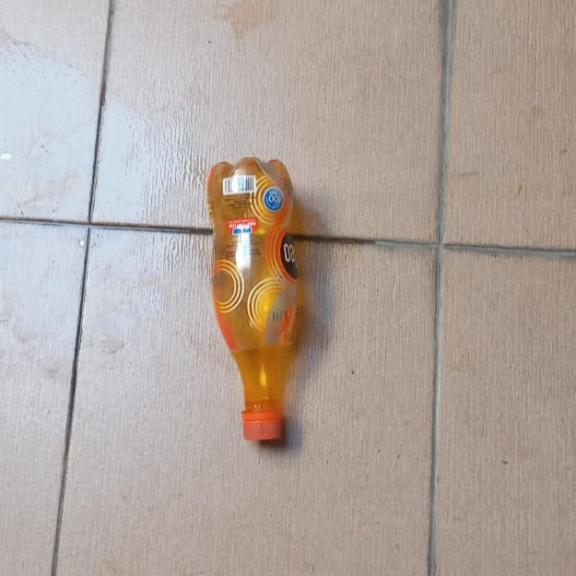Plastik: (206, 155, 301, 440)
